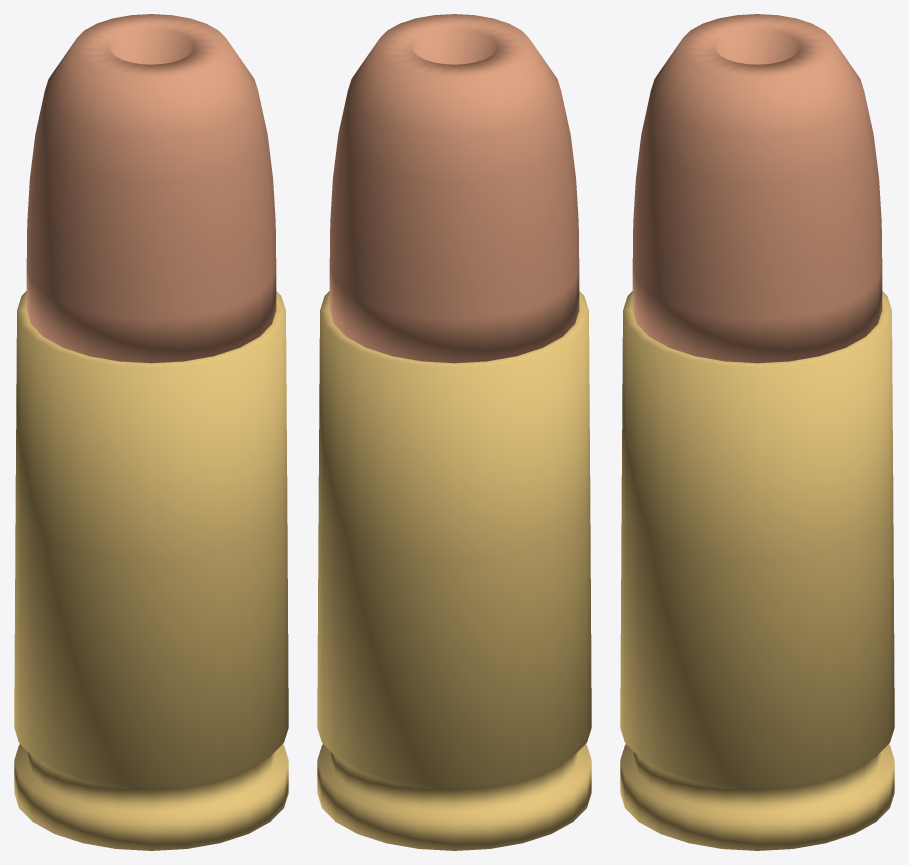
3 renders of one model, left to right at view 1: azimuth 30°, elevation 25°; view 2: azimuth 150°, elevation 25°; view 3: azimuth 270°, elevation 25°, orthographic.
Visible parts, largest first — view 1: vaina, bala_hueca; view 2: vaina, bala_hueca; view 3: vaina, bala_hueca.
Boxes of the visible parts, left/top/right/bottom form: vaina: left=14, top=291, right=288, bottom=850; bala_hueca: left=26, top=14, right=276, bottom=363; vaina: left=317, top=291, right=591, bottom=850; bala_hueca: left=329, top=14, right=579, bottom=363; vaina: left=620, top=291, right=894, bottom=850; bala_hueca: left=632, top=14, right=882, bottom=363.
Bounding box in the file's own units: 0.0099 × 0.0297 × 0.0099.
